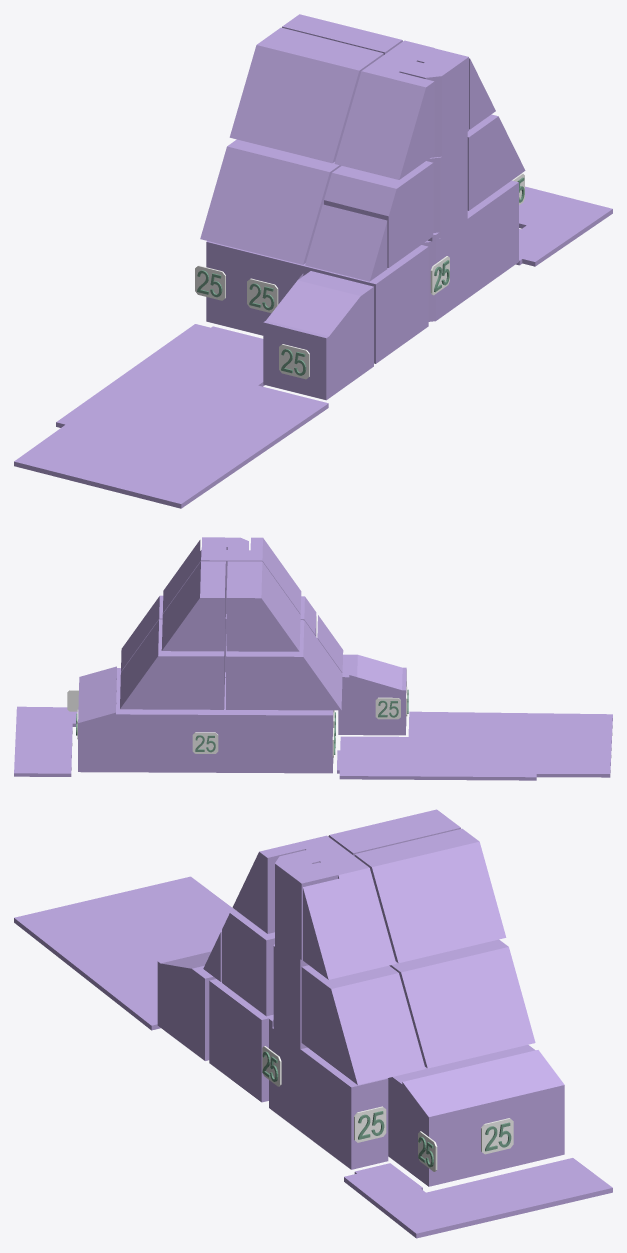
The picture shows the model from 3 angles, top to bottom: view 1: azimuth 30°, elevation 25°; view 2: azimuth 150°, elevation 25°; view 3: azimuth 270°, elevation 25°; orthographic projection. The views are drawn at different scales.
Visible parts, largest first — view 1: g_17, g_12, g_7, g_14, g_0, g_1, g_6, g_16, g_18, g_5, g_15, g_11 (+6 smaller); view 2: g_17, g_2, g_7, g_8, g_12, g_1, g_13, g_0, g_18, g_14, g_11, g_16 (+4 smaller); view 3: g_2, g_17, g_13, g_8, g_14, g_11, g_18, g_5, g_1, g_0, g_6, g_15 (+5 smaller).
Boxes of the visible parts, box(x1,y1,x2,y2) form: g_17: box(14, 324, 328, 508); g_12: box(229, 27, 383, 163); g_7: box(200, 139, 341, 264); g_14: box(334, 40, 495, 179); g_0: box(263, 271, 373, 400); g_1: box(206, 241, 428, 363); g_6: box(324, 161, 433, 267); g_16: box(305, 204, 387, 281); g_18: box(516, 186, 612, 266); g_5: box(467, 180, 518, 296); g_15: box(399, 48, 468, 150); g_11: box(467, 114, 525, 210); g_17: box(337, 711, 612, 780); g_2: box(78, 666, 256, 772); g_7: box(226, 620, 342, 710); g_8: box(120, 619, 224, 709); g_12: box(226, 561, 300, 651); g_1: box(257, 710, 333, 773); g_13: box(161, 561, 225, 651); g_0: box(338, 654, 406, 735); g_18: box(14, 706, 77, 776); g_14: box(162, 537, 301, 614); g_11: box(121, 595, 163, 671); g_16: box(317, 615, 343, 672); g_2: box(388, 1045, 564, 1186); g_17: box(14, 876, 236, 1030); g_13: box(354, 828, 506, 963); g_8: box(389, 939, 535, 1068); g_14: box(232, 835, 396, 979); g_11: box(301, 965, 425, 1084); g_18: box(344, 1158, 612, 1238); g_5: box(302, 1049, 388, 1169); g_1: box(209, 979, 273, 1102); g_0: box(157, 948, 215, 1060); g_6: box(222, 911, 274, 1016); g_15: box(275, 850, 337, 959).
Bounding box in the file's own units: 23.92 × 7.94 × 16.95.
